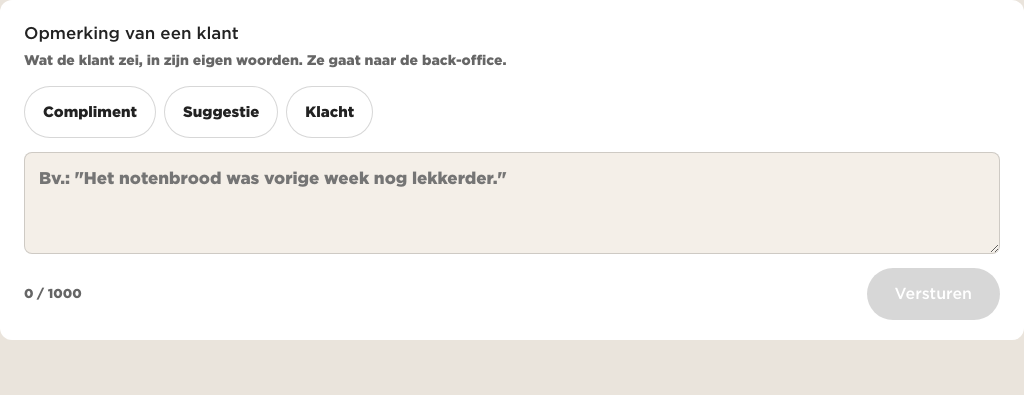
RemarkForm › is translated (NL), and tells the BO the remark was typed in Dutch
The image size is (1024, 395).
Step 1. Click the button "Klacht" → [330, 112], box [286, 86, 373, 138]
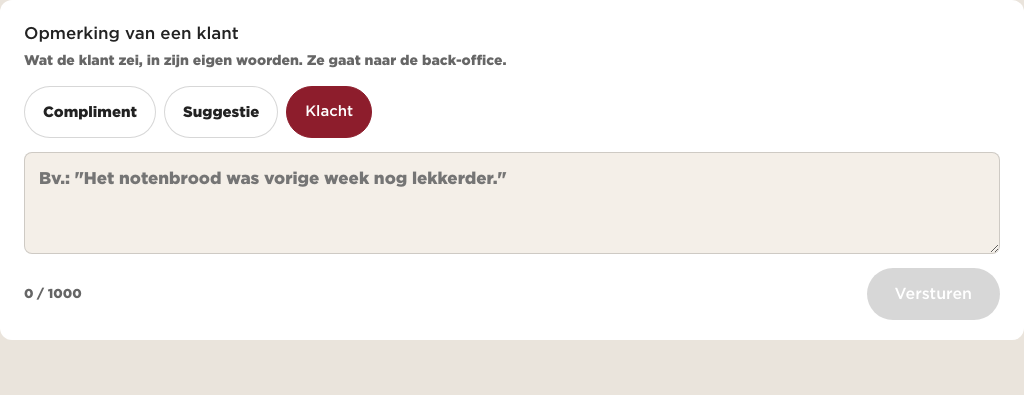
Step 2. Type "Te lang gewacht." into the text box → [512, 203], box [24, 152, 1000, 254]
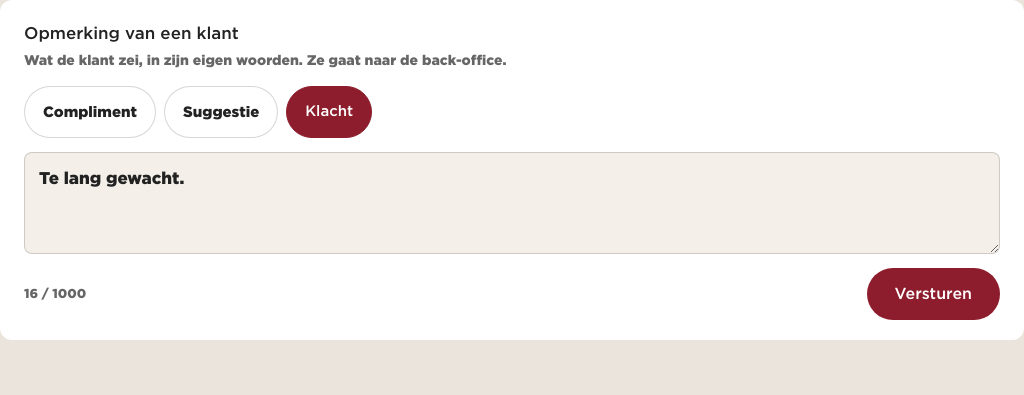
Step 3. Click the button "Versturen" → [933, 294], box [867, 268, 1000, 320]
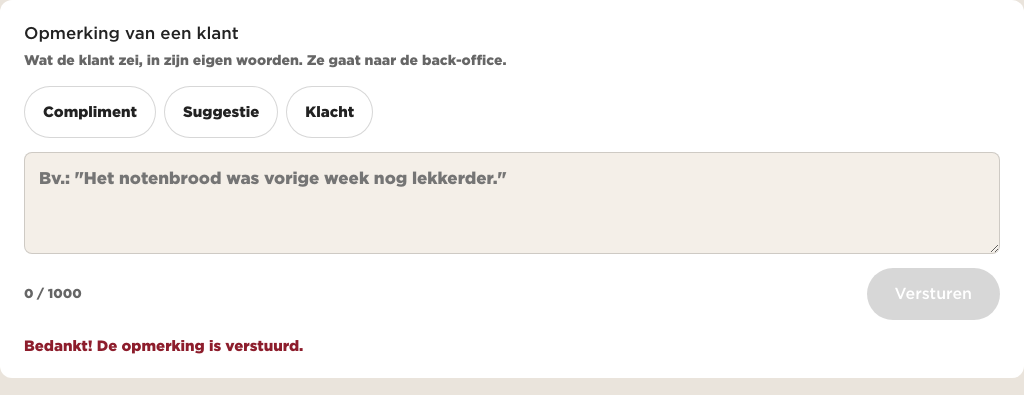
Check: the message reads "Bedankt! De opmerking is verstuurd.", box [24, 337, 303, 354]
